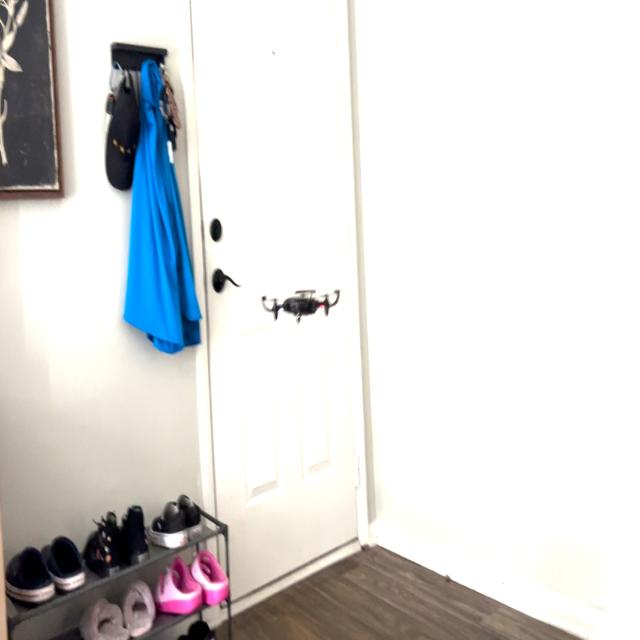drone: (252, 267, 347, 336)
